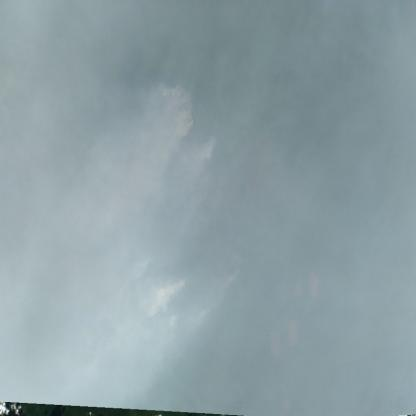fire: (144, 83, 220, 295)
